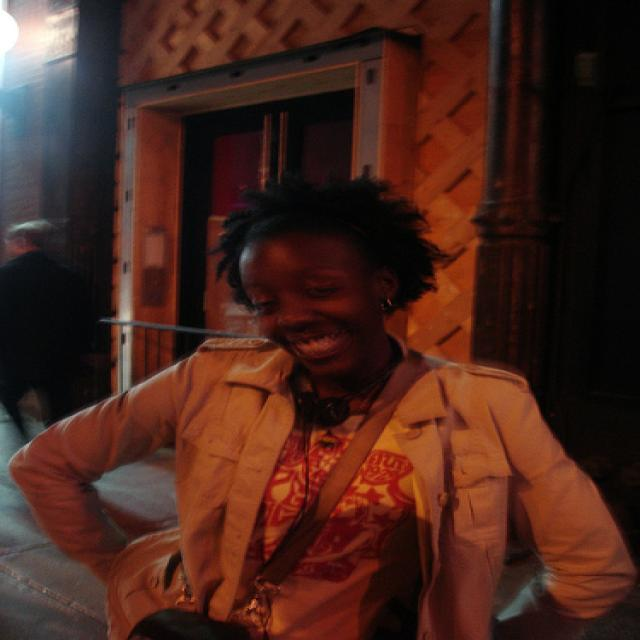person: (13, 182, 639, 640), (1, 219, 80, 448)
